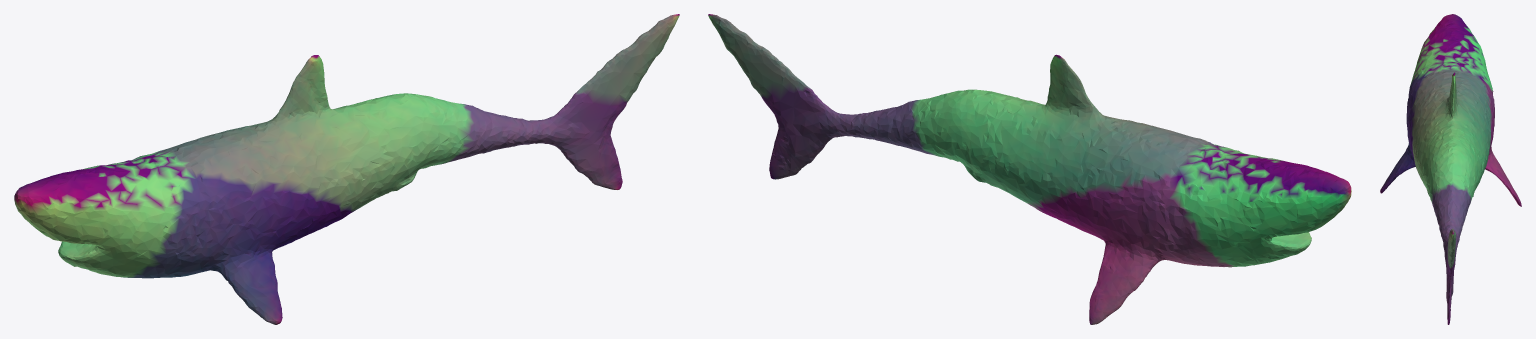
Rendered from shark-1.off.obj.
The picture shows the model from 3 angles, left to right: view 1: azimuth 30°, elevation 25°; view 2: azimuth 150°, elevation 25°; view 3: azimuth 270°, elevation 25°; orthographic projection. The views are drawn at different scales.
Size of the model in its own units: 1.45 by 0.4707 by 0.3729.
